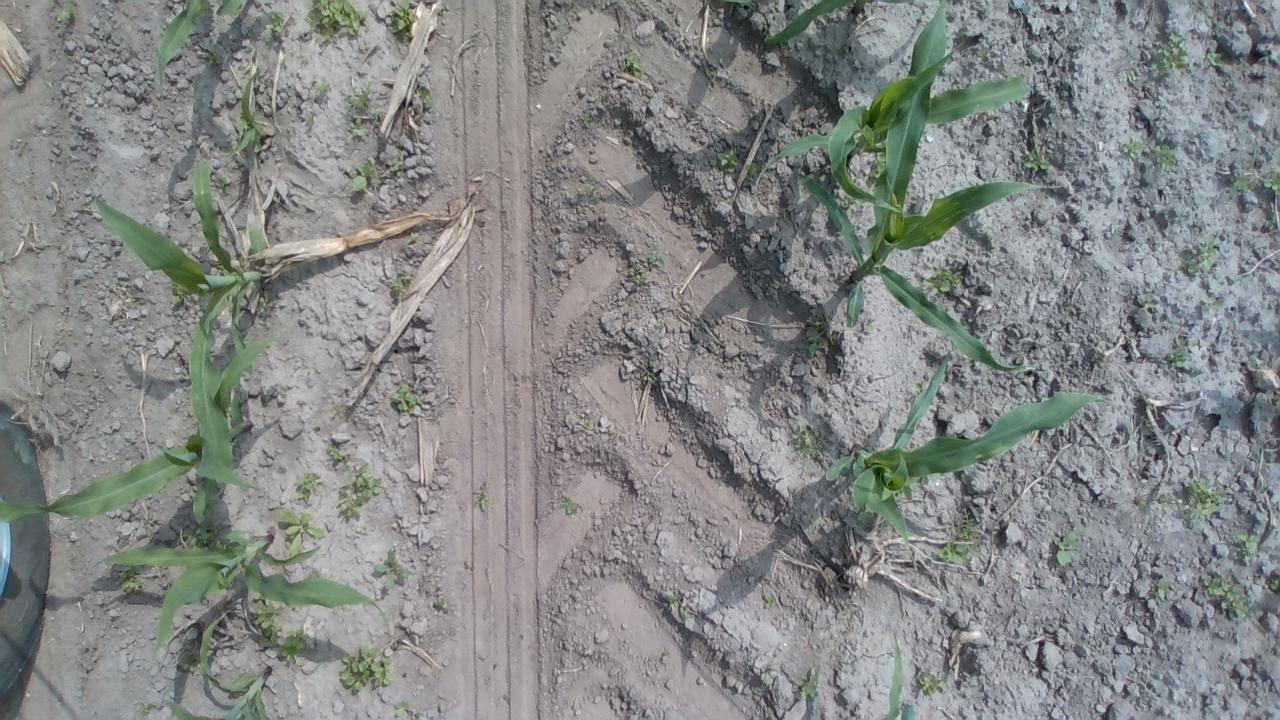Maize: (802, 3, 1036, 380), (91, 161, 278, 522), (824, 353, 1116, 561), (0, 334, 290, 532), (105, 528, 391, 653), (752, 74, 1033, 184), (162, 605, 272, 720), (157, 0, 246, 91), (762, 0, 919, 49), (230, 72, 267, 156), (884, 629, 918, 720)
Weeds: (180, 476, 226, 550), (338, 642, 395, 693), (936, 507, 981, 565), (274, 508, 326, 558), (338, 463, 384, 519), (306, 0, 368, 41), (1203, 576, 1249, 618), (1184, 478, 1229, 520), (252, 591, 282, 650), (1182, 234, 1221, 276), (374, 548, 412, 590), (1156, 30, 1190, 76), (626, 245, 666, 284), (790, 422, 831, 459), (805, 306, 834, 355), (920, 264, 963, 296), (277, 628, 313, 664), (1232, 166, 1280, 192), (391, 382, 424, 418), (392, 0, 418, 40), (293, 472, 324, 504), (1054, 528, 1080, 566), (350, 160, 380, 192), (918, 667, 951, 696), (344, 78, 370, 110), (118, 566, 148, 593), (663, 590, 690, 620), (1023, 145, 1051, 172), (1232, 532, 1258, 560), (798, 664, 818, 700), (718, 146, 744, 173), (1135, 495, 1184, 508), (327, 445, 353, 469), (1154, 144, 1178, 170), (1122, 136, 1146, 160), (168, 280, 190, 306), (1167, 343, 1190, 367), (869, 150, 886, 180), (54, 2, 78, 23), (474, 482, 490, 513), (174, 652, 197, 673), (264, 13, 286, 33), (897, 476, 914, 501), (840, 194, 855, 221), (348, 117, 368, 137), (394, 701, 416, 717), (578, 182, 601, 197), (560, 495, 578, 514), (391, 277, 408, 297), (1156, 579, 1171, 601), (210, 172, 232, 187), (625, 54, 642, 72), (702, 58, 715, 81), (316, 78, 332, 96), (417, 88, 432, 106), (1203, 298, 1225, 310), (206, 50, 225, 63), (136, 703, 154, 716), (1208, 52, 1224, 66), (975, 47, 991, 61), (764, 594, 776, 612), (642, 369, 656, 384), (910, 382, 926, 395), (746, 162, 760, 176), (304, 112, 318, 126), (393, 160, 405, 176), (578, 110, 590, 126), (258, 295, 272, 308), (370, 109, 386, 120), (862, 319, 876, 331), (434, 600, 449, 610), (1142, 296, 1154, 308), (578, 419, 594, 428), (1268, 216, 1278, 230), (1270, 576, 1280, 590), (1126, 70, 1138, 80), (407, 231, 417, 241), (1248, 391, 1258, 401), (1273, 397, 1280, 406)
